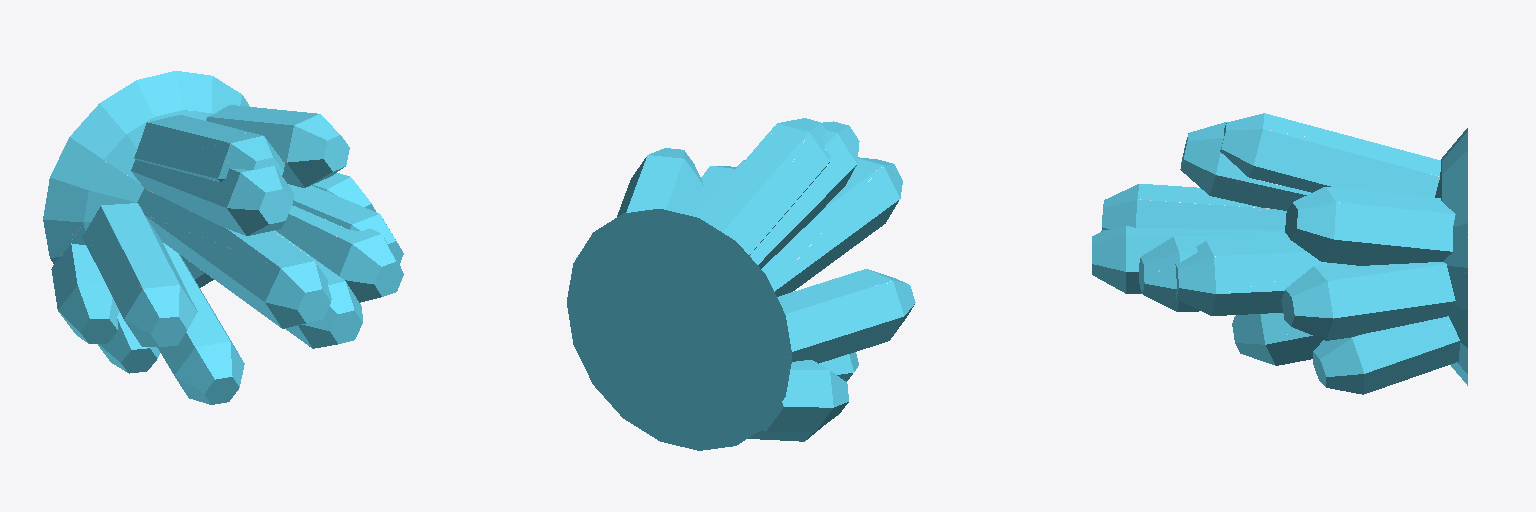
The picture shows the model from 3 angles: view 1: azimuth 30°, elevation 25°; view 2: azimuth 150°, elevation 25°; view 3: azimuth 270°, elevation 25°; orthographic projection.
Visible parts, largest first — view 1: OpenSCAD_Model; view 2: OpenSCAD_Model; view 3: OpenSCAD_Model.
Part boxes in pixels (left/top/right/bottom): OpenSCAD_Model: left=43, top=71, right=403, bottom=404; OpenSCAD_Model: left=567, top=118, right=915, bottom=450; OpenSCAD_Model: left=1092, top=113, right=1467, bottom=394.
Bounding box in the file's own units: 8.15 × 7.34 × 9.9.
Materials: 1 (1 with a texture image).